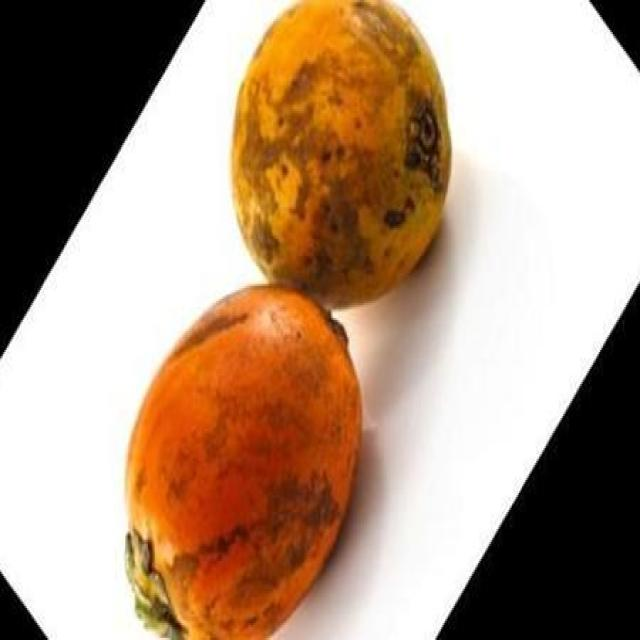good: (125, 286, 361, 638), (232, 0, 449, 307)
